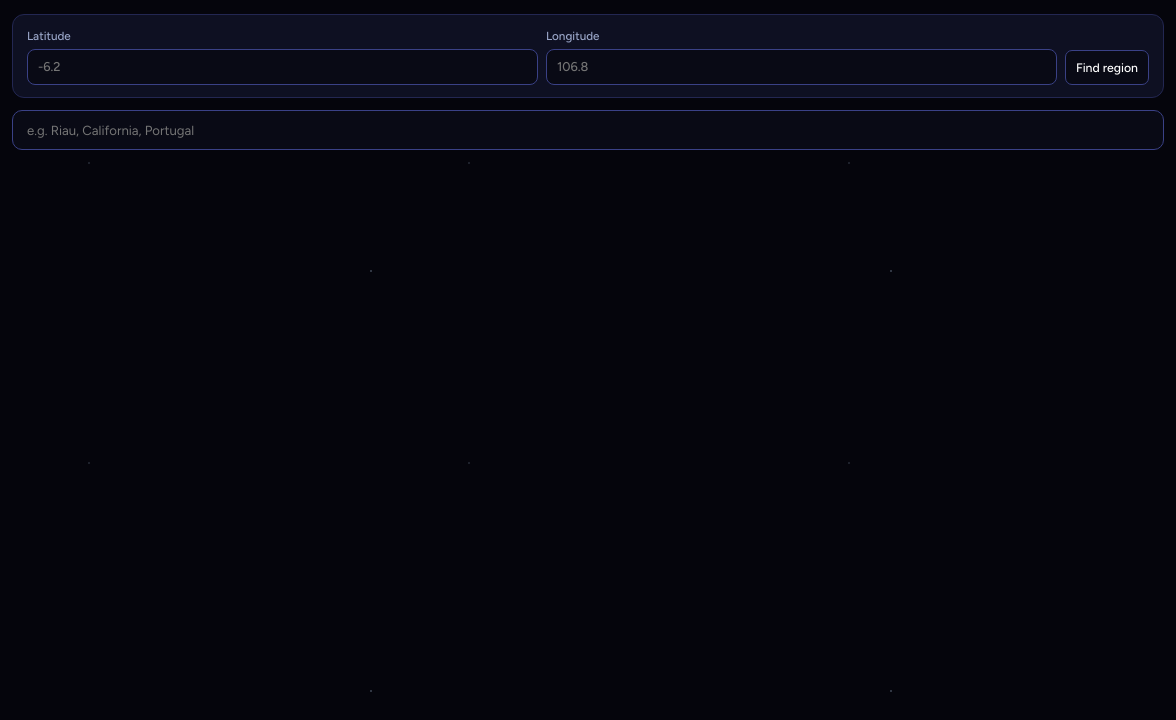
it: RegionList › does not invent a region outside the saved boundaries
This screenshot has width=1176, height=720.
Type "40" into the number field labelled "Latitude". click: (282, 67)
box: [27,49,538,85]
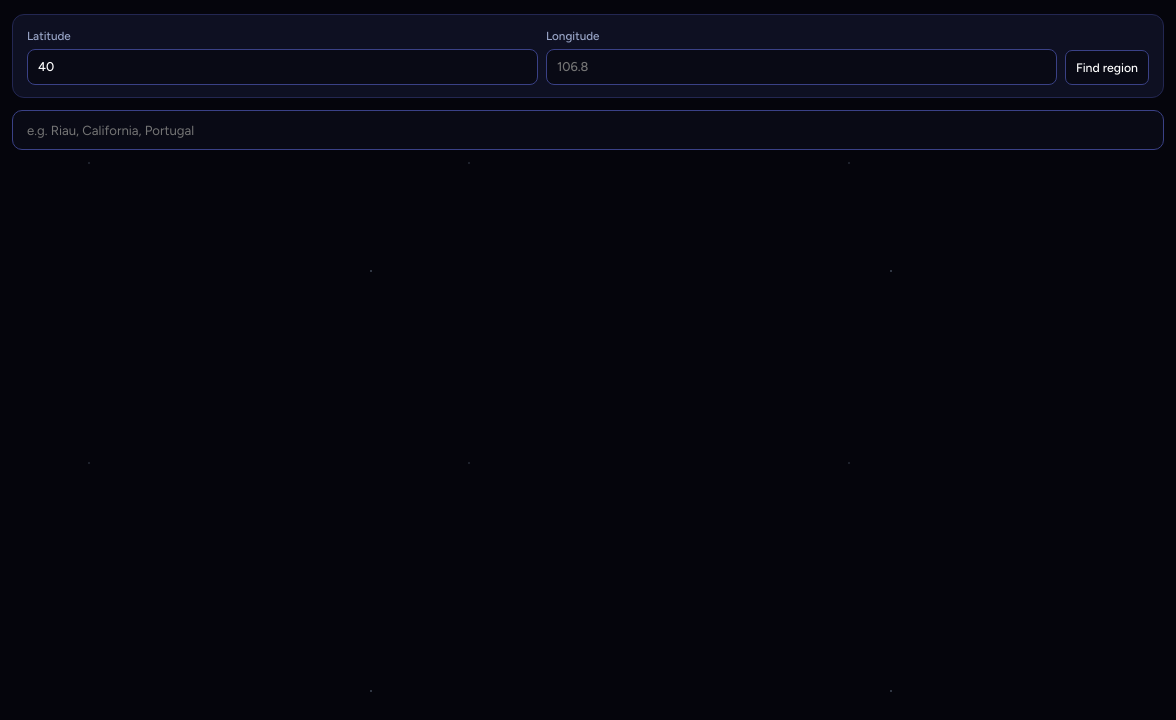
Type "10" into the number field labelled "Longitude". click: (802, 67)
box: [546,49,1057,85]
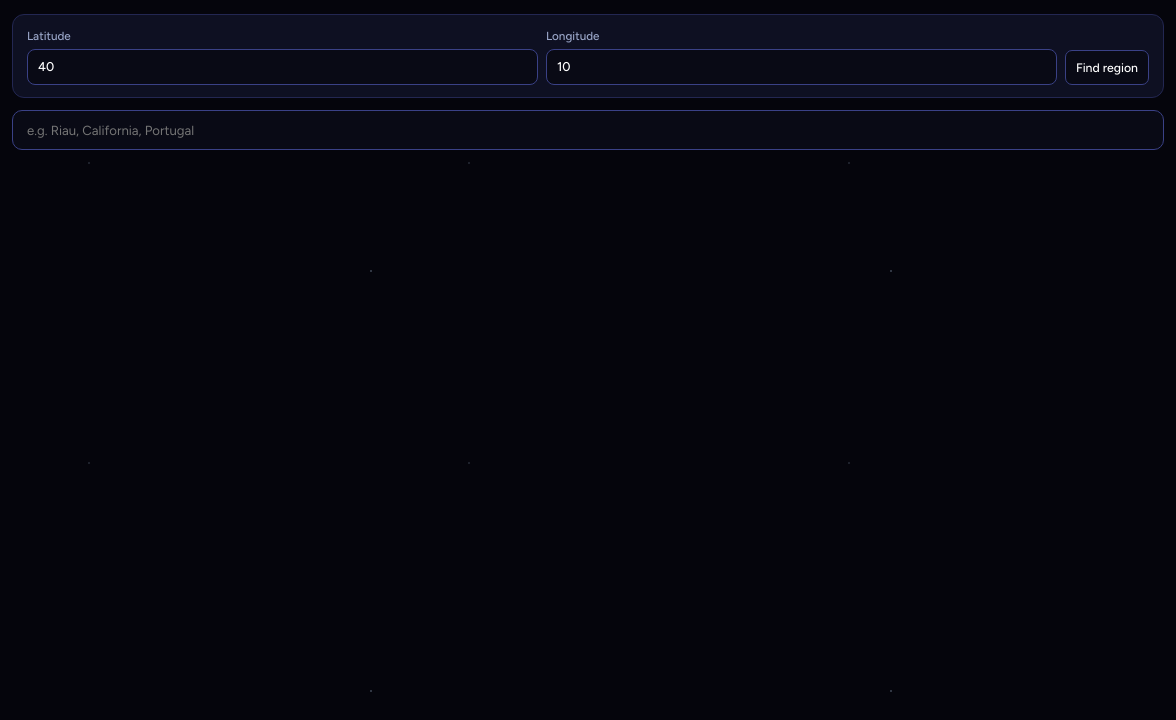
Click the button "Find region". click: (1107, 67)
box: [1065,50,1149,85]
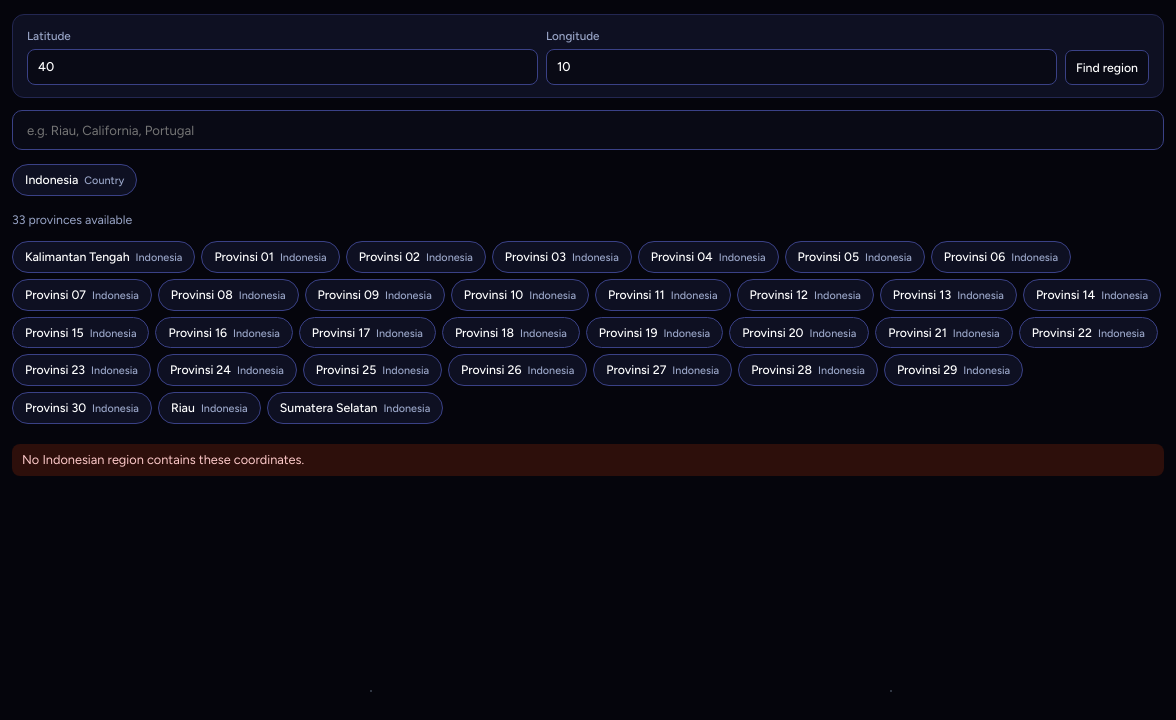
Expected: the message shows "No Indonesian region", [22,452,304,467]
